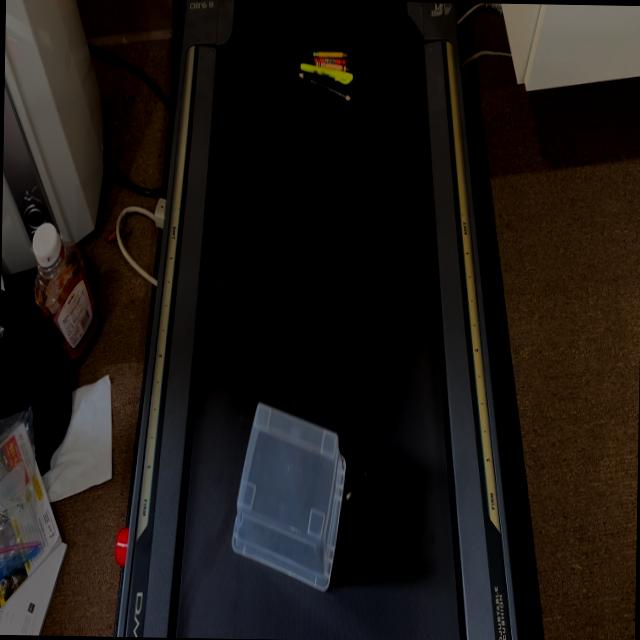Recycle: (229, 400, 347, 593)
